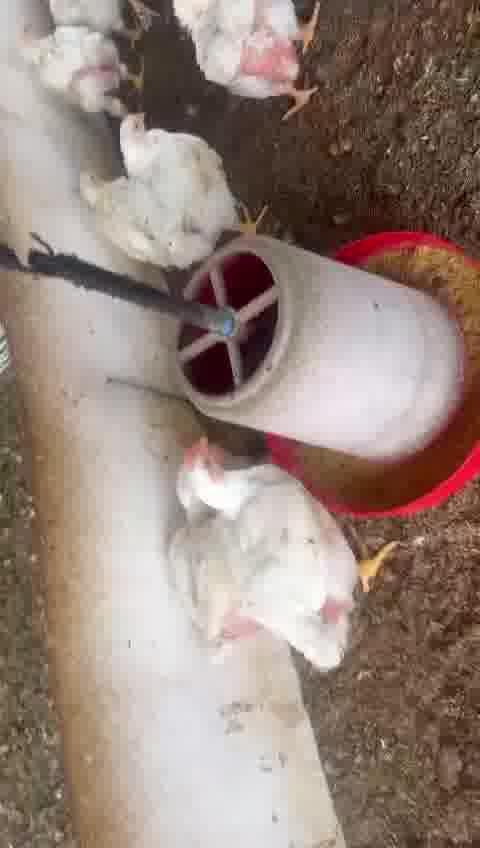Normal: (174, 435, 386, 609), (119, 112, 263, 222), (77, 175, 216, 257)
